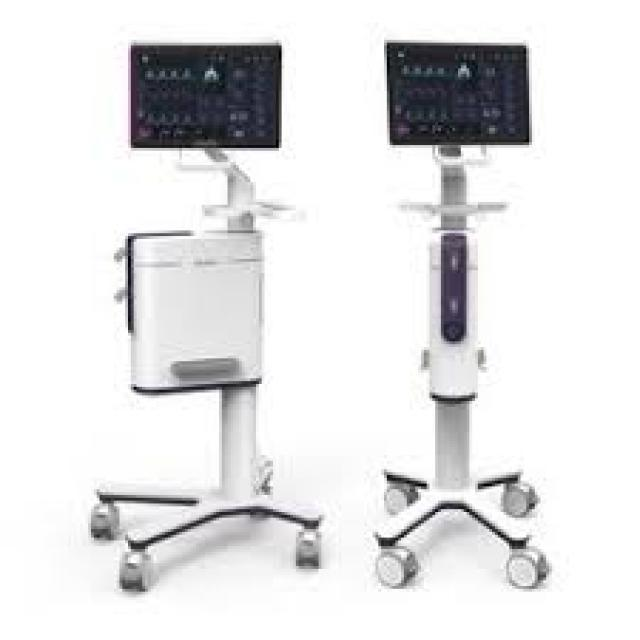ventilator: (377, 60, 602, 621), (90, 26, 316, 572)
